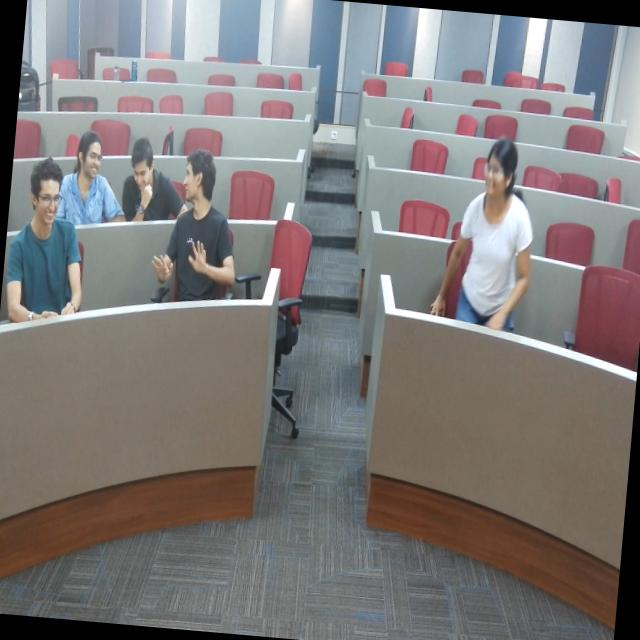cheating: (156, 157, 241, 320), (8, 158, 84, 334), (71, 125, 115, 226)
